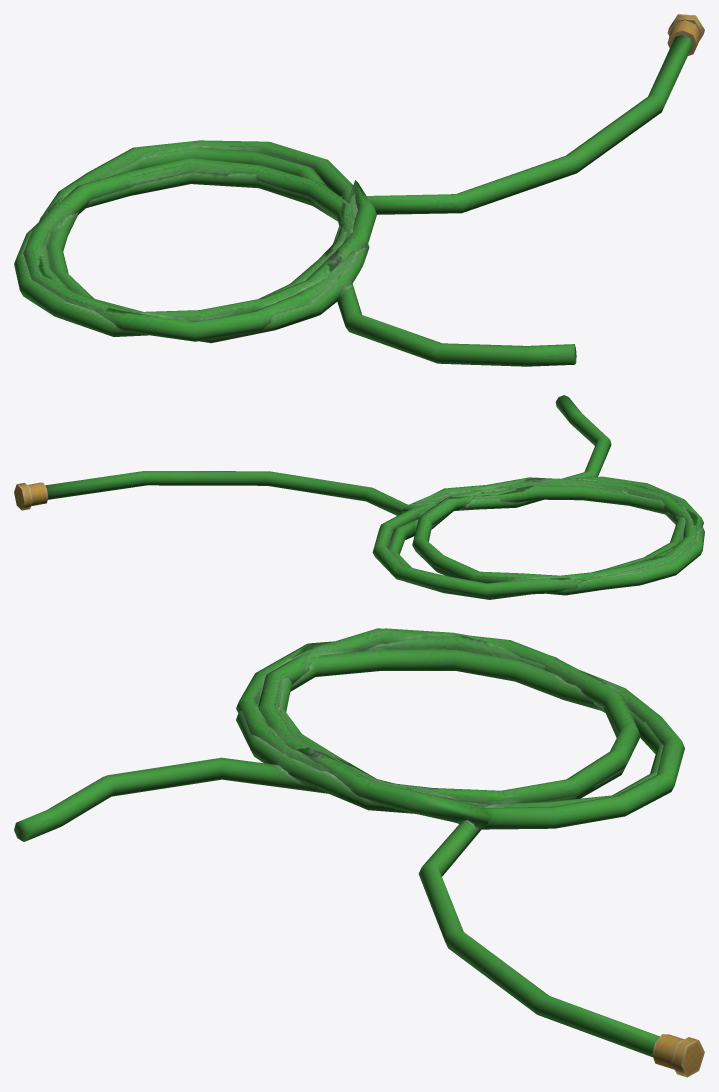
Rendered from hose_coil.glb.
3 views of the same model, one above another, from view 1: azimuth 30°, elevation 25°; view 2: azimuth 150°, elevation 25°; view 3: azimuth 270°, elevation 25° (orthographic). The views are drawn at different scales.
Parts seen in each view (by area): view 1: hose_coil; view 2: hose_coil; view 3: hose_coil.
Boxes of the visible parts, x1,y1,x2,y2 form: hose_coil: [14, 14, 704, 366]; hose_coil: [14, 395, 704, 599]; hose_coil: [14, 628, 704, 1077].
Bounding box in the file's own units: 1.91 × 0.0977 × 1.34.
Materials: 1 (1 with a texture image).
